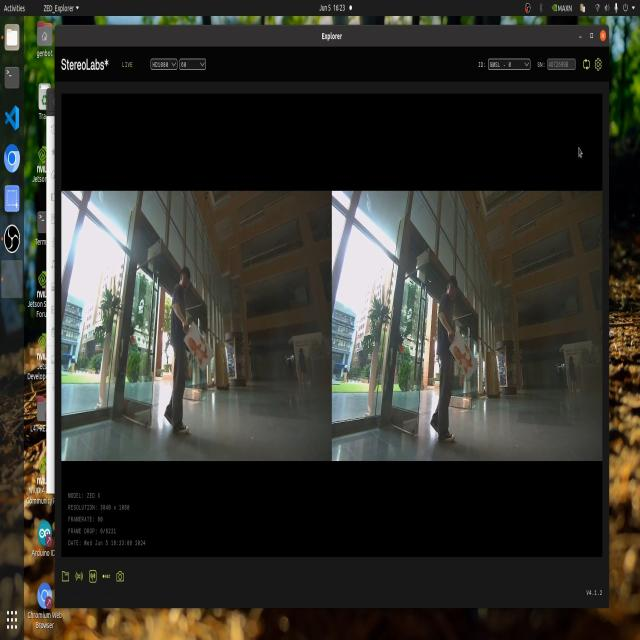red: (178, 332, 213, 361), (450, 340, 478, 375)
